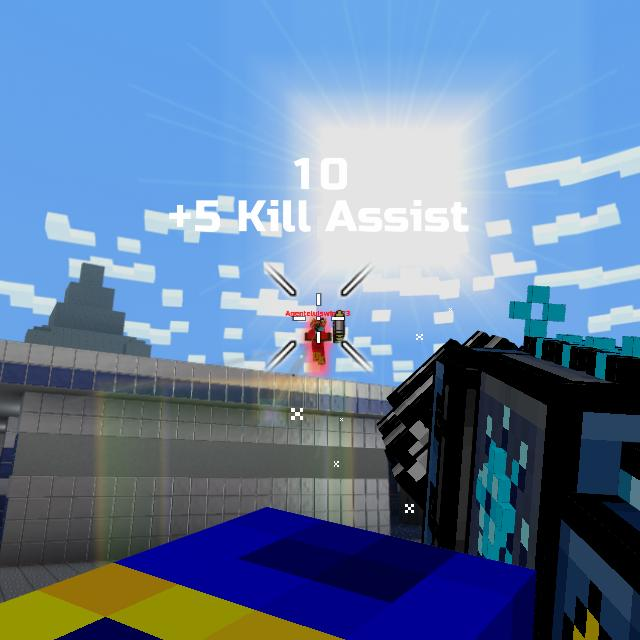Enemy: (304, 318, 332, 366)
